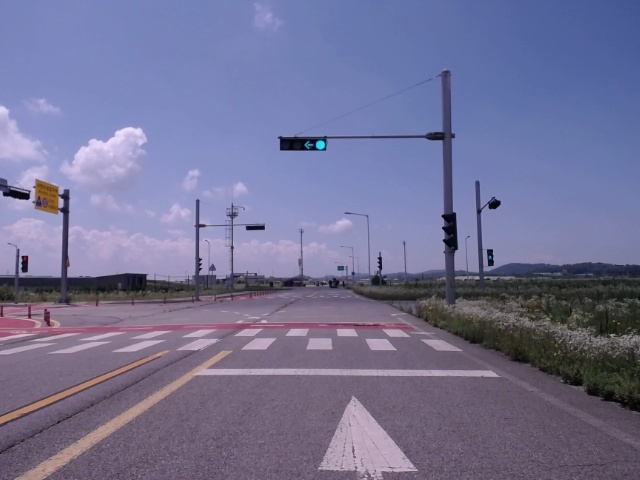all_green_4: (277, 133, 327, 150)
